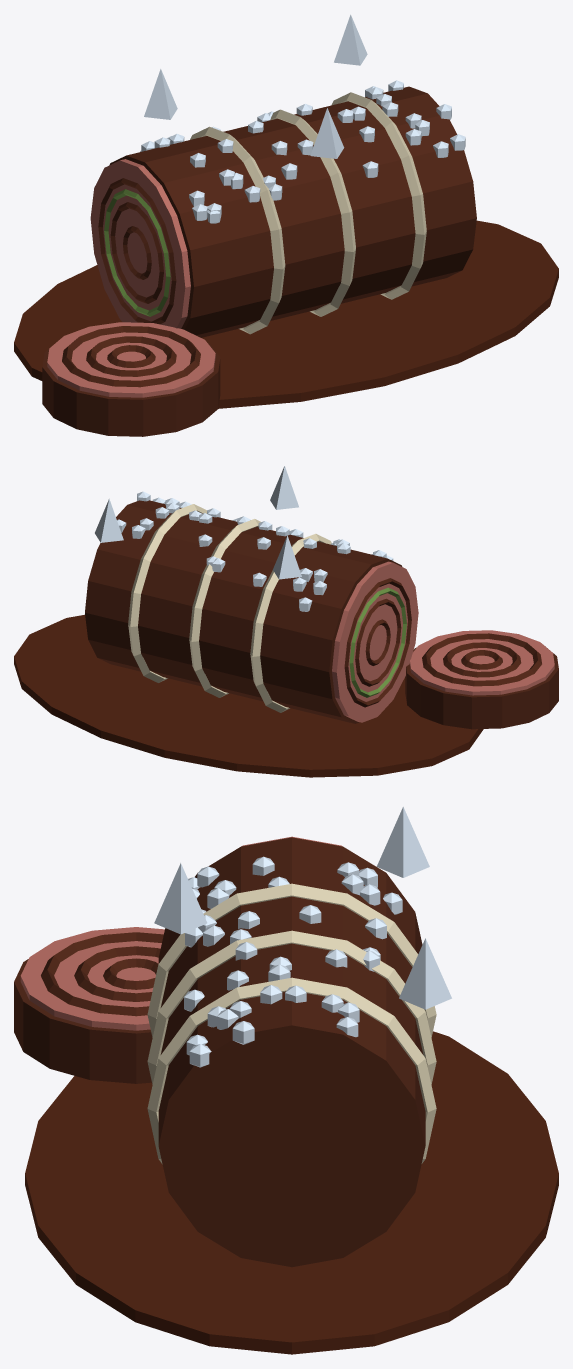
Rendered from VFP_Secret_FrostWolfRoulade.obj.
3 renders of one model, top to bottom at view 1: azimuth 30°, elevation 25°; view 2: azimuth 150°, elevation 25°; view 3: azimuth 270°, elevation 25°, orthographic. The views are drawn at different scales.
Parts seen in each view (by area): view 1: Roll, Sauce, Slice, Frost, Face, String, Slice_roulade_cut, Spiral, Spiral_pickle; view 2: Roll, Sauce, Slice, Face, String, Frost, Slice_roulade_cut, Spiral, Spiral_pickle; view 3: Sauce, Roll, Frost, String, Slice, Slice_roulade_cut.
Part boxes in pixels (x1,y1,x2,y2): Roll: (109, 86, 476, 337); Sauce: (14, 220, 558, 408); Slice: (42, 326, 220, 436); Frost: (140, 14, 465, 223); Face: (90, 159, 190, 328); String: (190, 92, 426, 334); Slice_roulade_cut: (47, 322, 215, 397); Spiral: (98, 178, 176, 324); Spiral_pickle: (104, 189, 170, 316); Roll: (85, 500, 402, 723); Sauce: (14, 614, 483, 777); Slice: (405, 633, 558, 729); Face: (332, 561, 418, 722); String: (128, 504, 331, 712); Frost: (95, 466, 393, 611); Slice_roulade_cut: (409, 630, 554, 695); Spiral: (344, 578, 411, 707); Spiral_pickle: (349, 587, 406, 697); Sauce: (25, 1031, 558, 1354); Roll: (158, 837, 425, 1267); Frost: (154, 807, 451, 1067); String: (147, 883, 436, 1164); Slice: (14, 932, 163, 1083); Slice_roulade_cut: (20, 927, 164, 1030).
Bounding box in the file's own units: 0.385 × 0.16 × 0.245.
